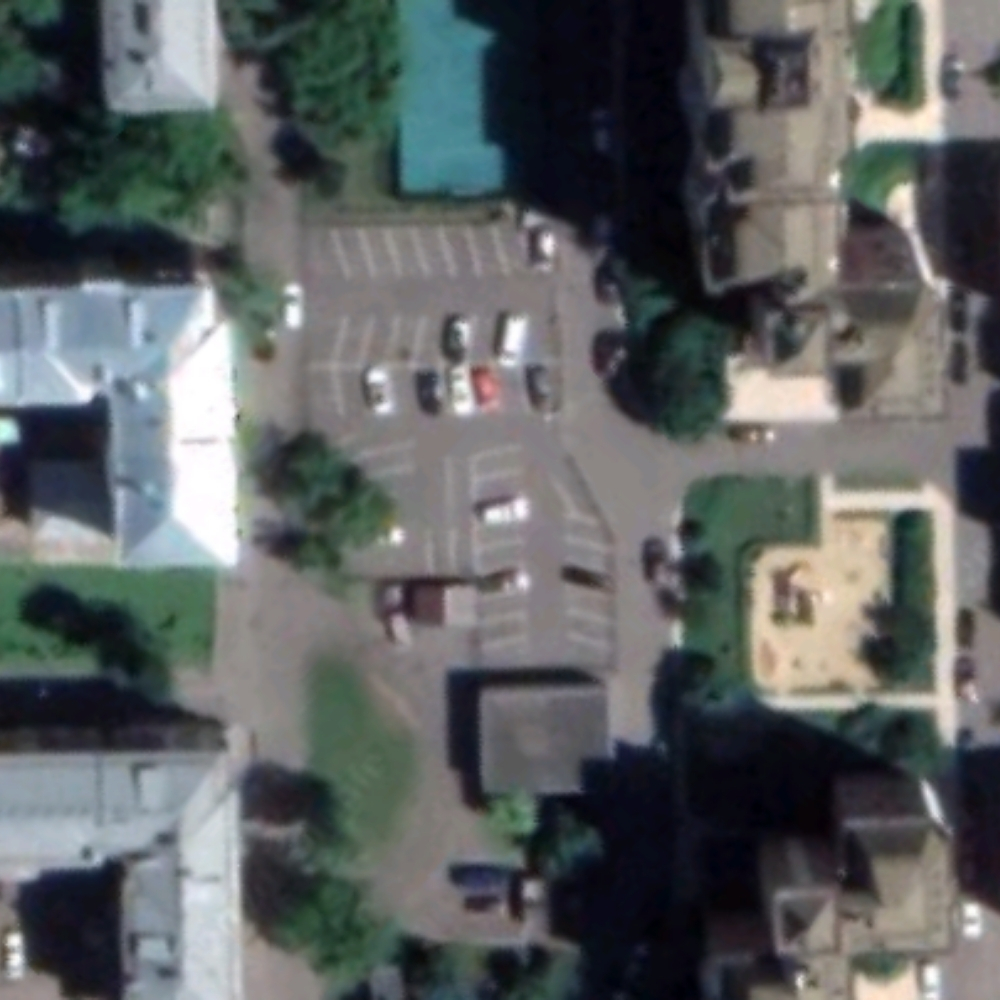parking: (300, 225, 615, 675)
